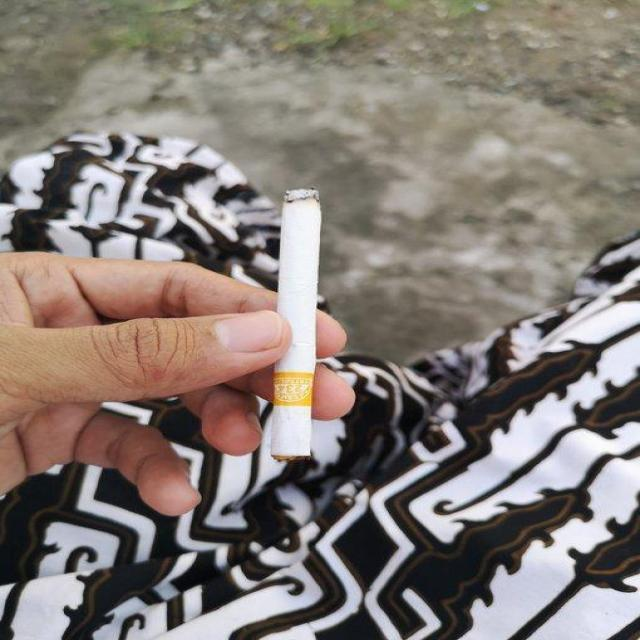rokok: (268, 186, 326, 464)
